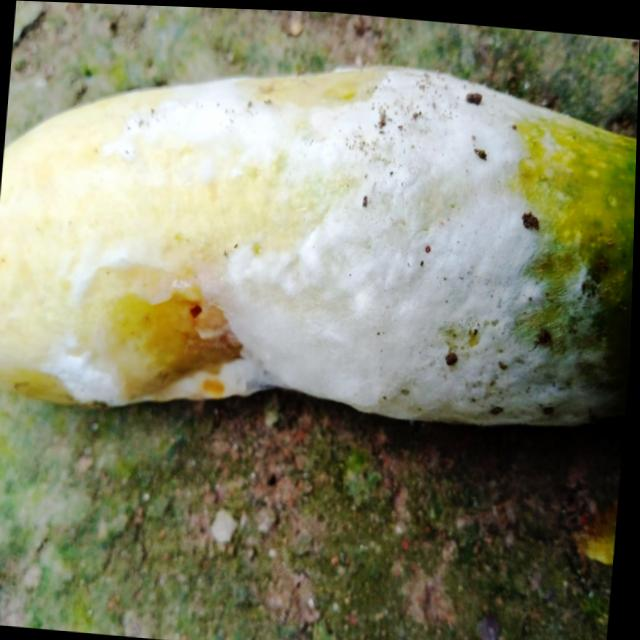Pythium-Fruit-Rot: (46, 38, 620, 450)
